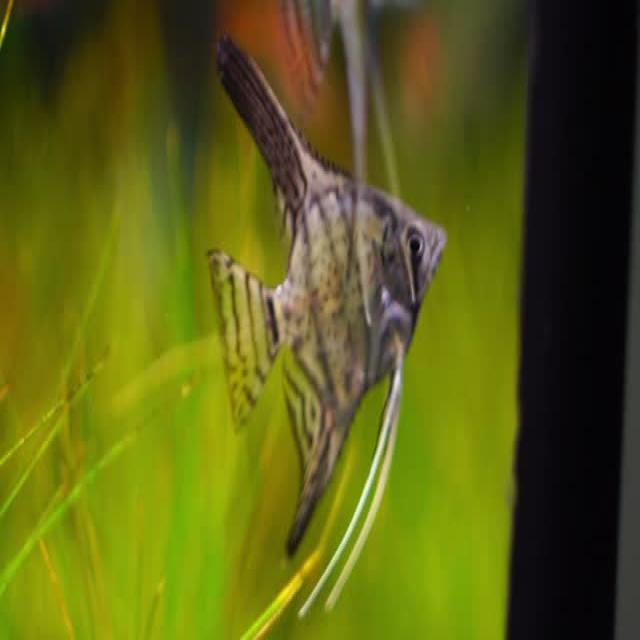AngelFish: (210, 34, 446, 556)
